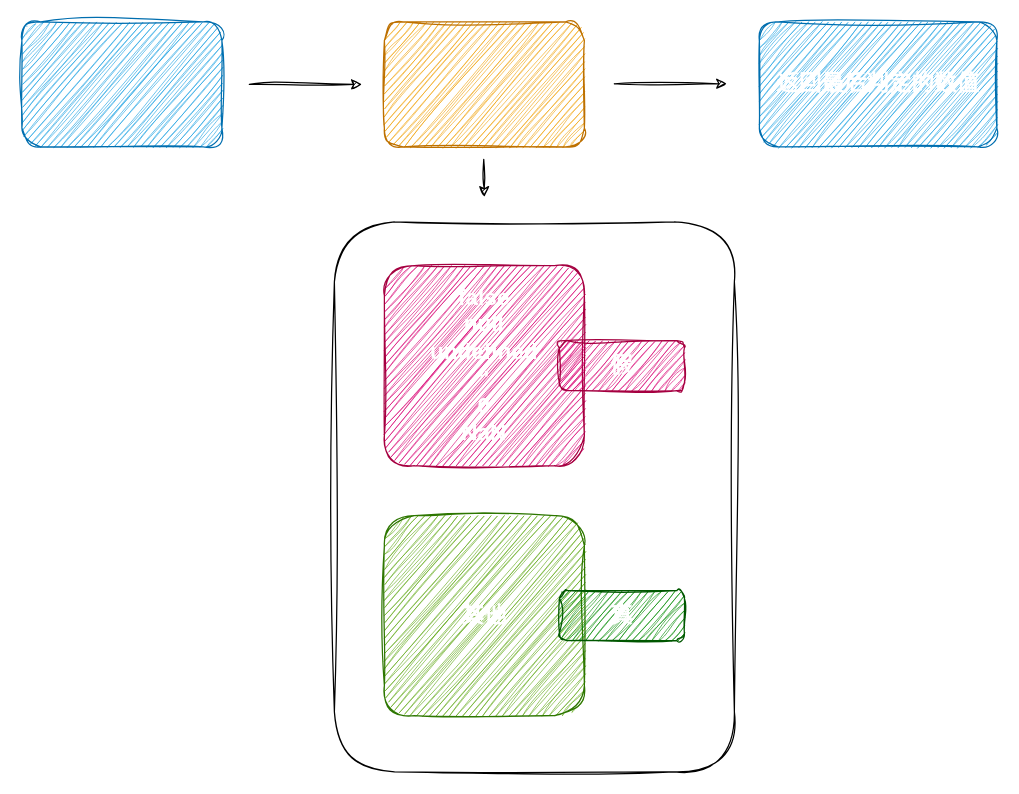
Some shapes in this 1019 by 794 pixel diagram are drawn without their labels. The centre of each missing label's shape, as x and y in pixels:
依次进行 布尔判定: the point at 483,84
数值1 && 数值2 数值1 || 数值2: the point at 121,84
